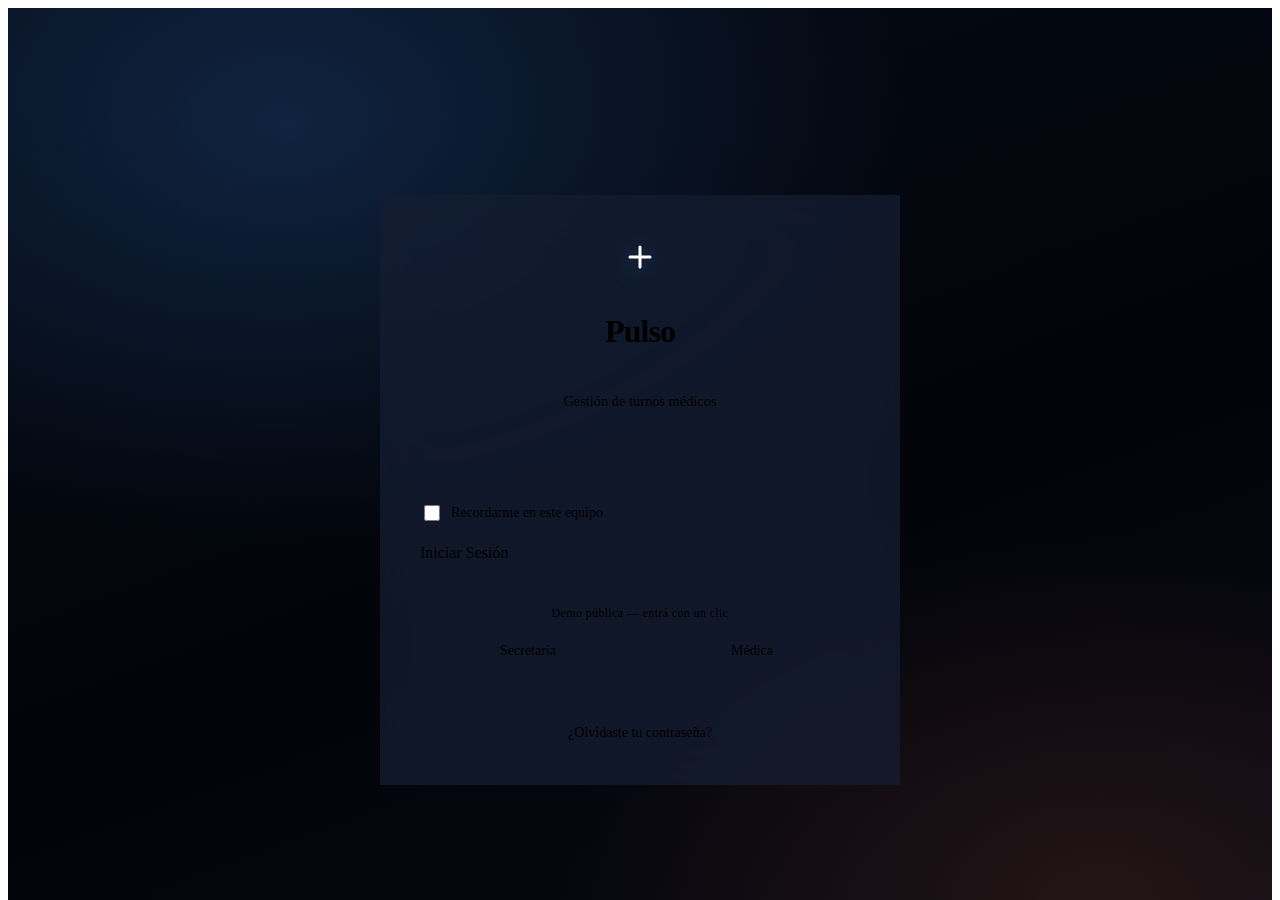
it: LoginPage — acceso a la demo › una credencial equivocada cualquiera NO ofrece otra cuenta
Click the button "Secretaría". click: x=528, y=651
box: x1=420 y1=633 x2=636 y2=669
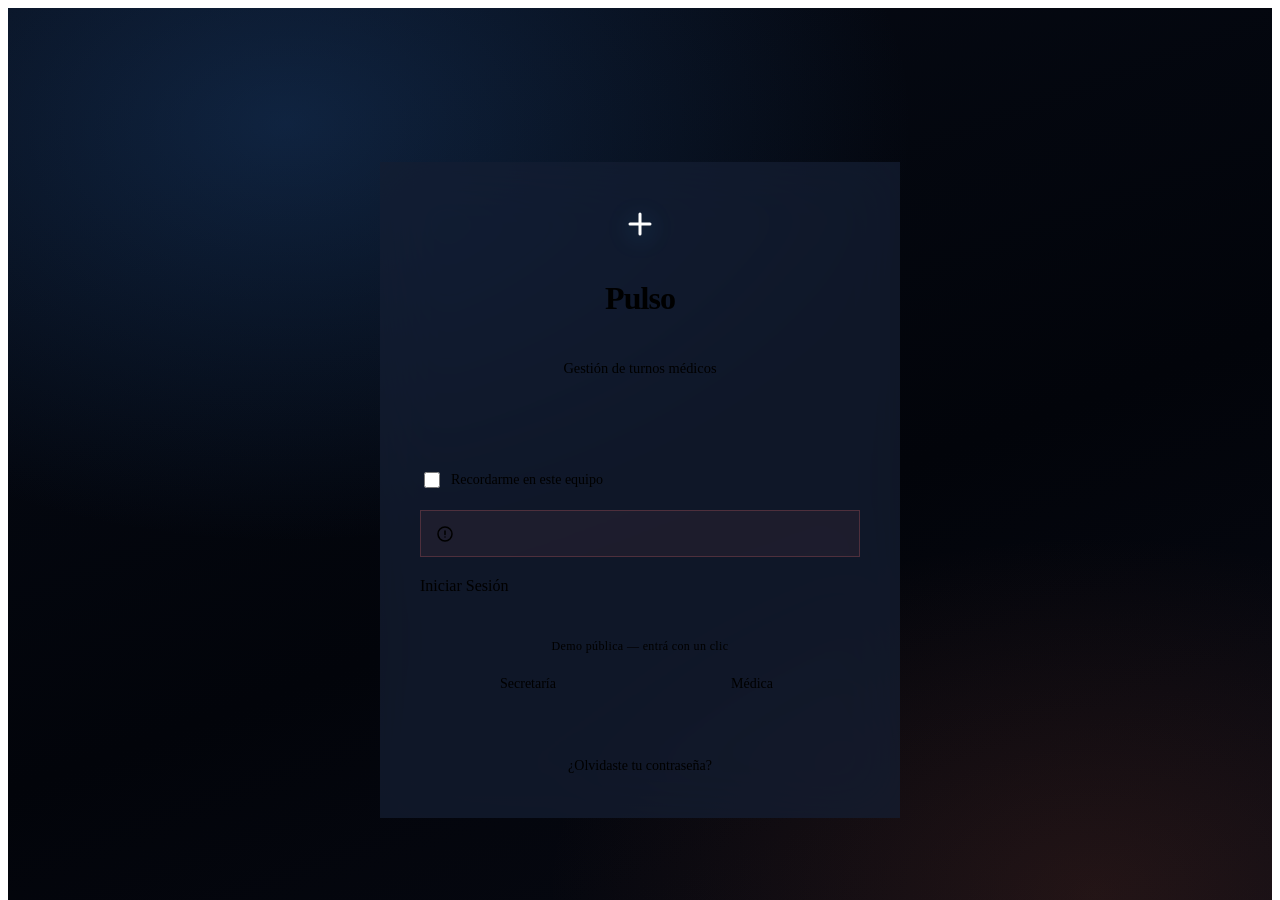
Expected: the message is shown, x1=420 y1=510 x2=860 y2=557
